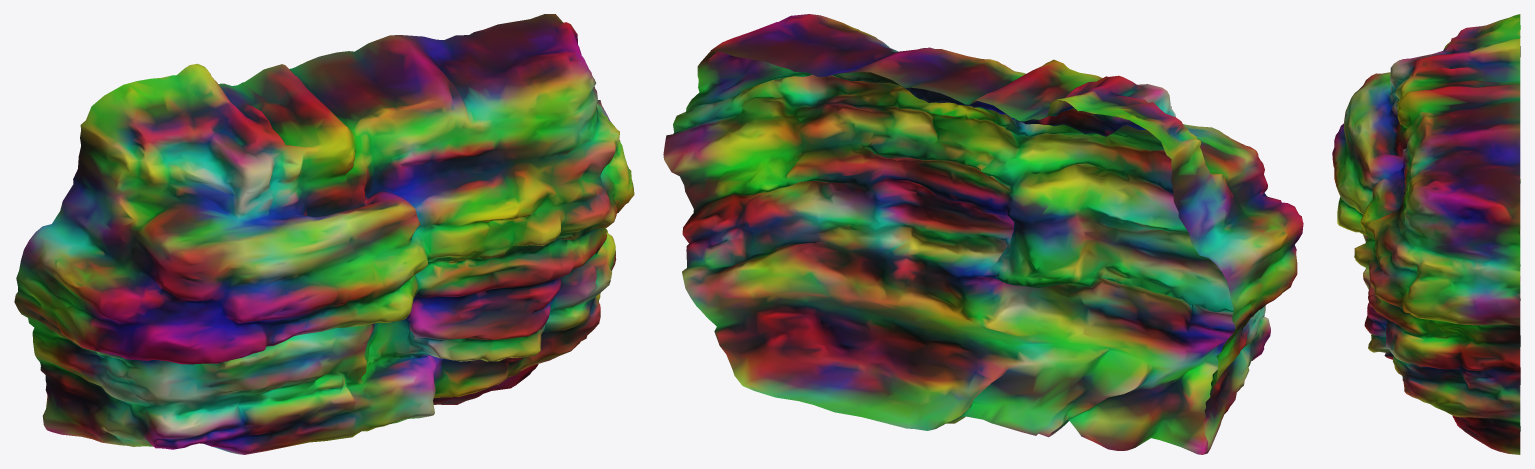
File: Cliff_03_Mesh.fbx
3 views of the same model, side by side, from view 1: azimuth 30°, elevation 25°; view 2: azimuth 150°, elevation 25°; view 3: azimuth 270°, elevation 25° (orthographic). The views are drawn at different scales.
Visible parts, largest first — view 1: Cliff_03_LOD0; view 2: Cliff_03_LOD0; view 3: Cliff_03_LOD0.
Boxes of the visible parts, <box> form: Cliff_03_LOD0: <box>14,14,634,454</box>; Cliff_03_LOD0: <box>663,14,1303,454</box>; Cliff_03_LOD0: <box>1332,14,1520,454</box>.
Size of the model in its own units: 1830 by 652 by 1123.
